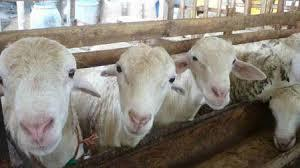Sheep: (3, 37, 85, 156), (102, 44, 179, 133), (181, 27, 258, 111)
